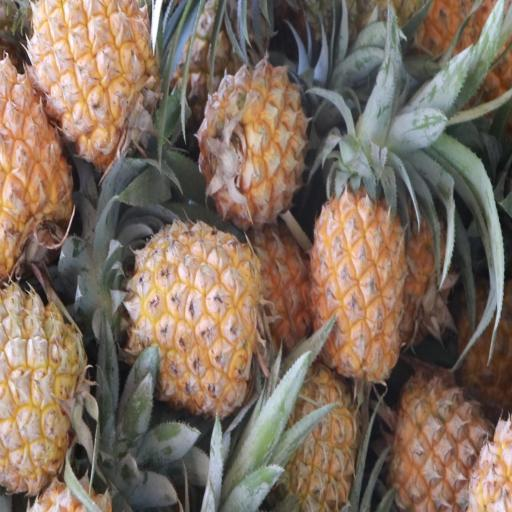------------------------------: (394, 373, 496, 512)
Pineapple - v8 v1: (130, 219, 260, 408), (31, 0, 158, 161), (310, 188, 408, 388), (0, 291, 86, 487), (205, 62, 308, 220), (0, 52, 73, 268), (274, 368, 360, 512)
